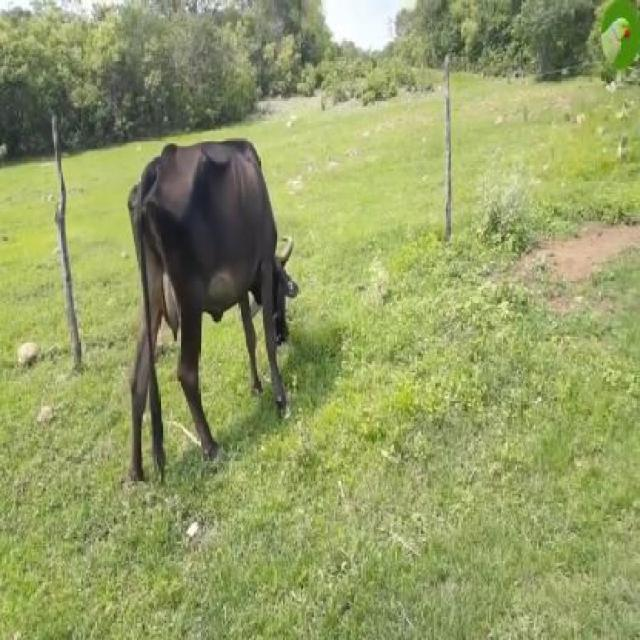Cow: (118, 138, 296, 491)
